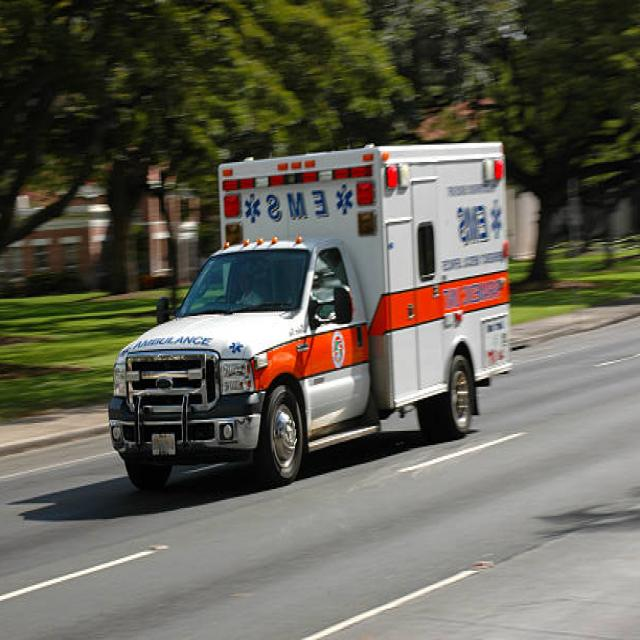emergency: (110, 143, 511, 488)
